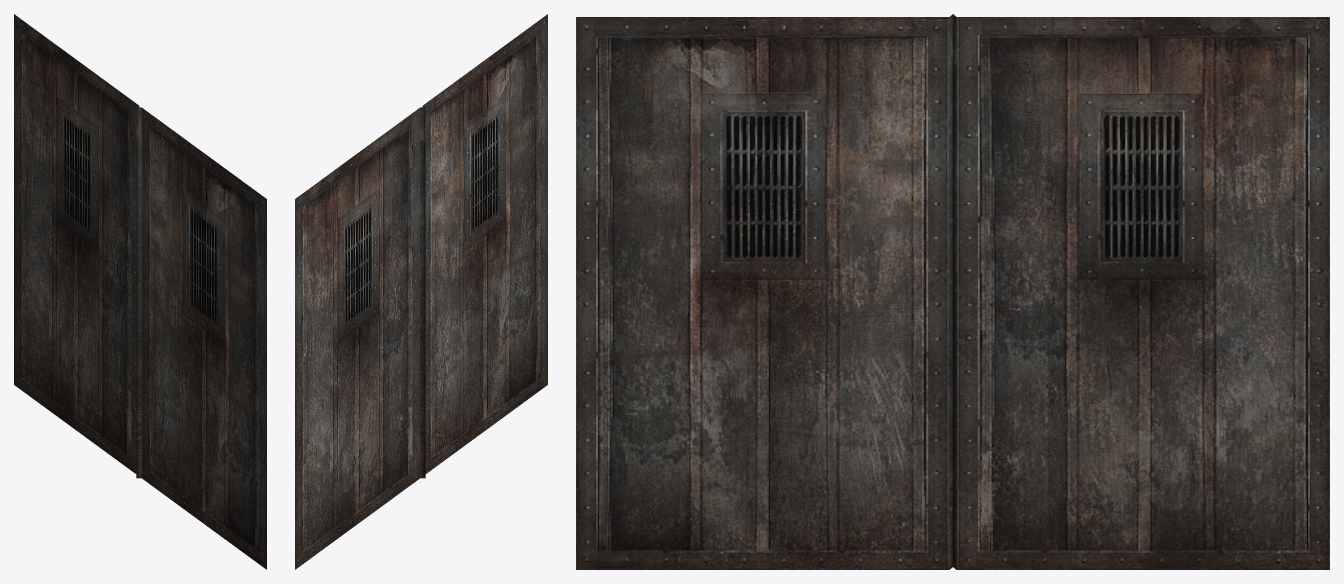
Rendered from Door05.FBX.
The picture shows the model from 3 angles, left to right: view 1: azimuth 30°, elevation 25°; view 2: azimuth 150°, elevation 25°; view 3: azimuth 270°, elevation 25°; orthographic projection. The views are drawn at different scales.
Parts seen in each view (by area): view 1: HotelElevatorDoor01:12; view 2: HotelElevatorDoor01:12; view 3: HotelElevatorDoor01:12.
Boxes of the visible parts, x1,y1,x2,y2 form: HotelElevatorDoor01:12: (14, 14, 266, 569); HotelElevatorDoor01:12: (295, 14, 547, 569); HotelElevatorDoor01:12: (576, 14, 1329, 569).
Size of the model in its own units: 0.02 by 1.74 by 2.15.
